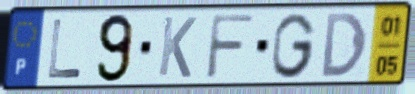9: (93, 12, 138, 85)
D: (320, 10, 369, 80)
F: (203, 12, 257, 82)
G: (270, 11, 319, 80)
K: (156, 14, 199, 81)
L: (45, 17, 84, 81)
